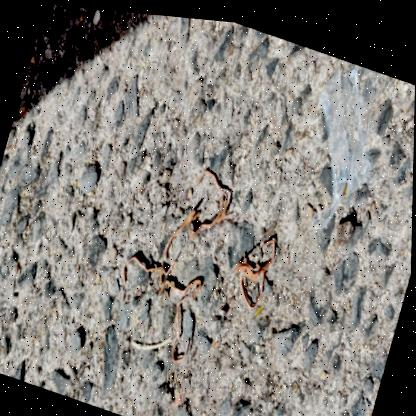Metal: (189, 167, 233, 236), (236, 234, 276, 305), (162, 205, 196, 273), (173, 291, 190, 359), (124, 254, 163, 283), (161, 275, 203, 294)
Plastic: (312, 57, 377, 223)
